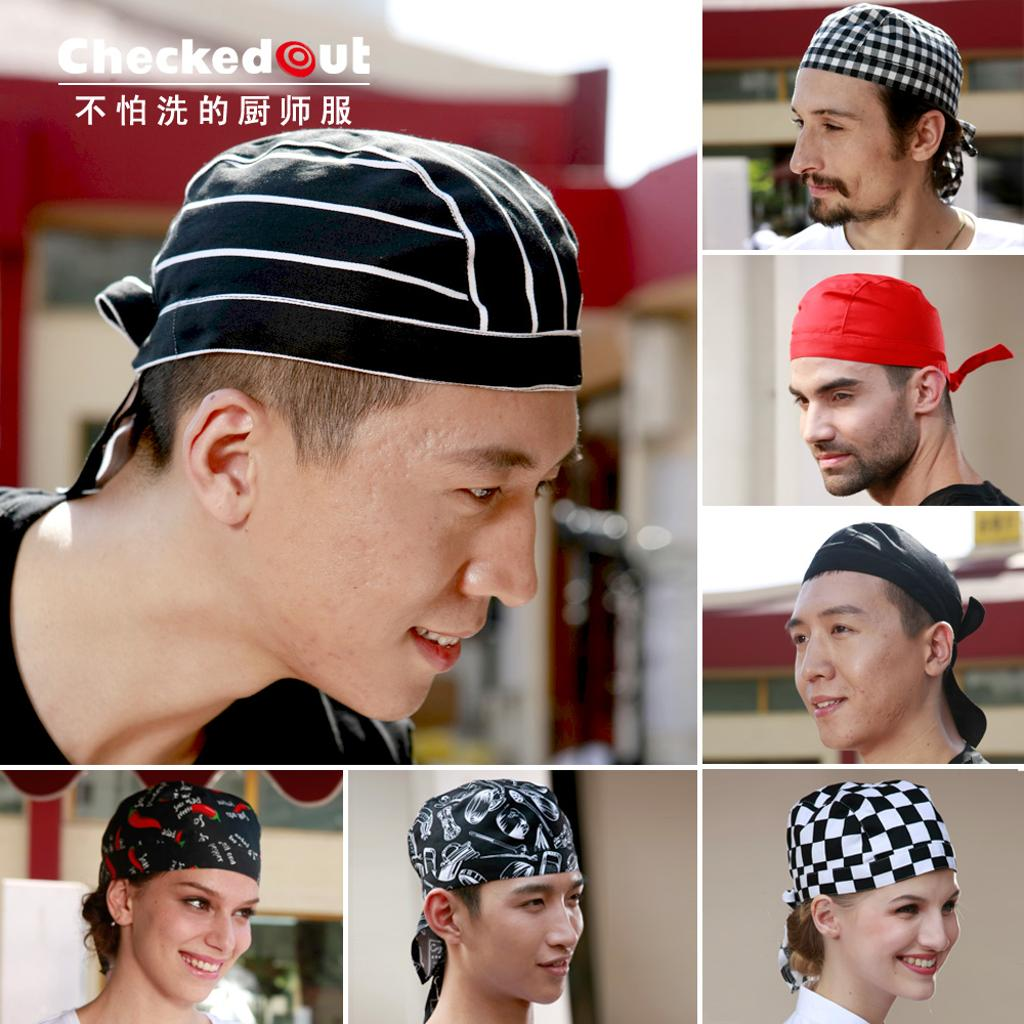face: (290, 280, 574, 724), (788, 566, 920, 748), (786, 44, 910, 222), (468, 814, 582, 1002), (140, 826, 258, 1000), (788, 348, 916, 494), (844, 838, 958, 1000)
